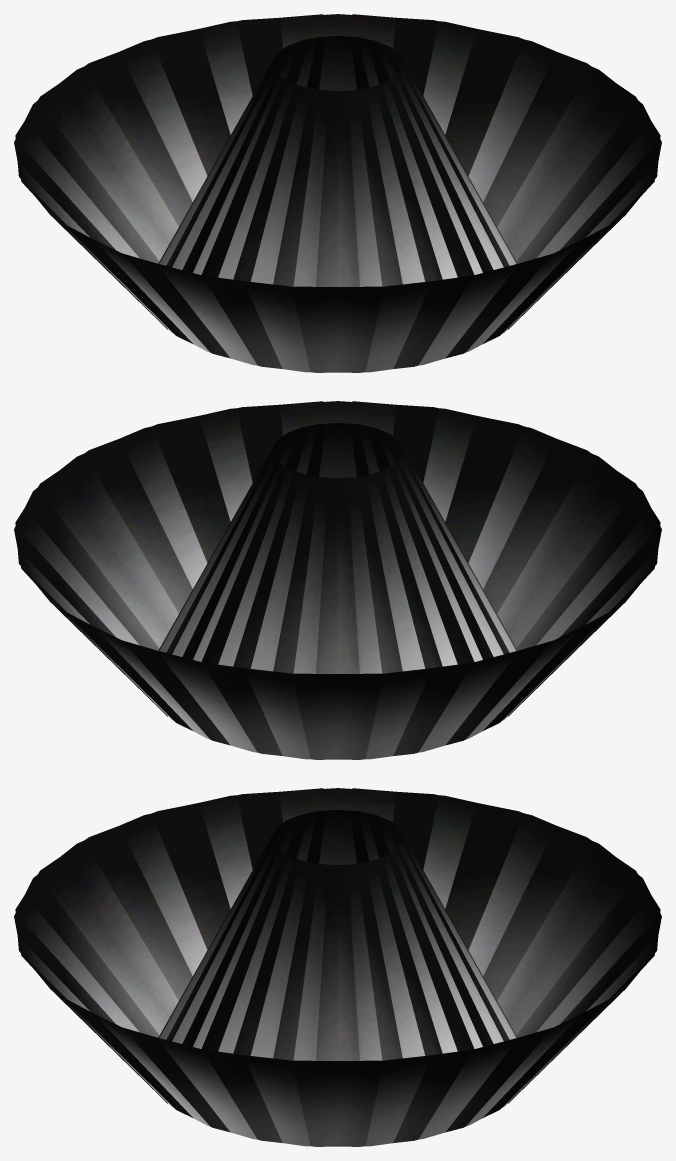
File: vfx_kurp_0935.dae
The picture shows the model from 3 angles, top to bottom: view 1: azimuth 30°, elevation 25°; view 2: azimuth 150°, elevation 25°; view 3: azimuth 270°, elevation 25°; orthographic projection.
Visible parts, largest first — view 1: vfx_kurp_0935; view 2: vfx_kurp_0935; view 3: vfx_kurp_0935.
Boxes of the visible parts, <box> form: vfx_kurp_0935: <box>14,14,661,372</box>; vfx_kurp_0935: <box>14,401,661,759</box>; vfx_kurp_0935: <box>14,788,661,1146</box>.
Bounding box in the file's own units: 8.25 × 8.26 × 3.22.
Materials: 1 (1 with a texture image).
